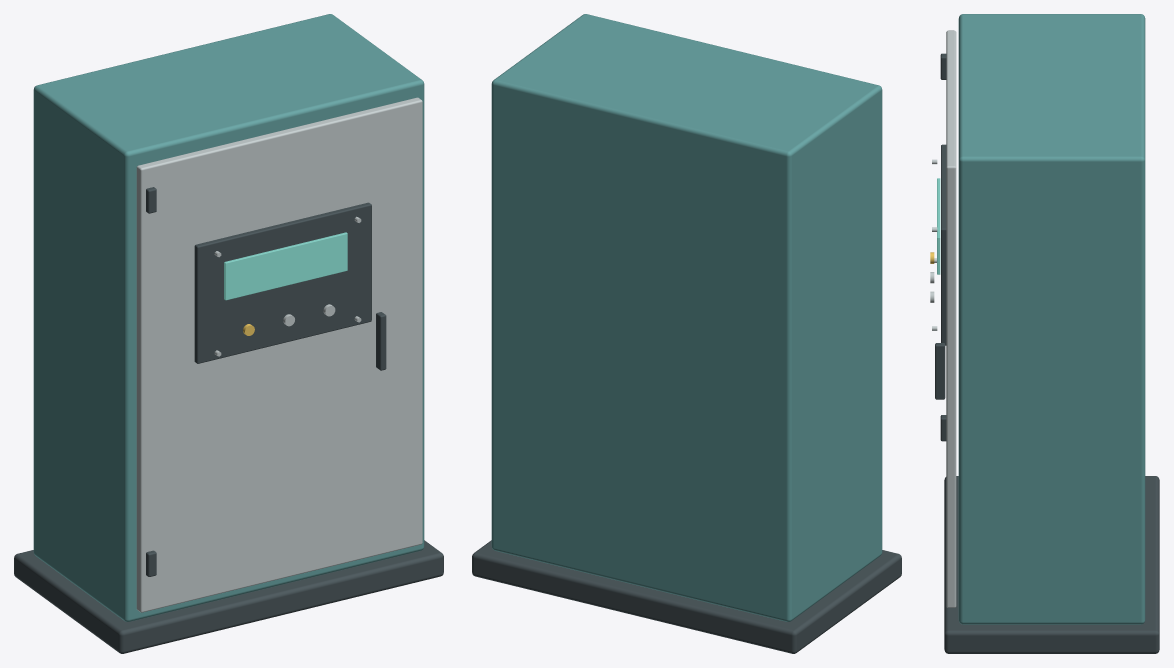
File: hydroelectric-dam-infiltration-switchgear-dd48d9e8__29350.glb
3 renders of one model, left to right at view 1: azimuth 30°, elevation 25°; view 2: azimuth 150°, elevation 25°; view 3: azimuth 270°, elevation 25°, orthographic.
Parts seen in each view (by area): view 1: switchgear; view 2: switchgear; view 3: switchgear.
Part boxes in pixels (x1,y1,x2,y2): switchgear: (14,14,443,653); switchgear: (472,14,901,653); switchgear: (930,14,1159,653).
Bounding box in the file's own units: 1.3 × 1.89 × 0.7991.
